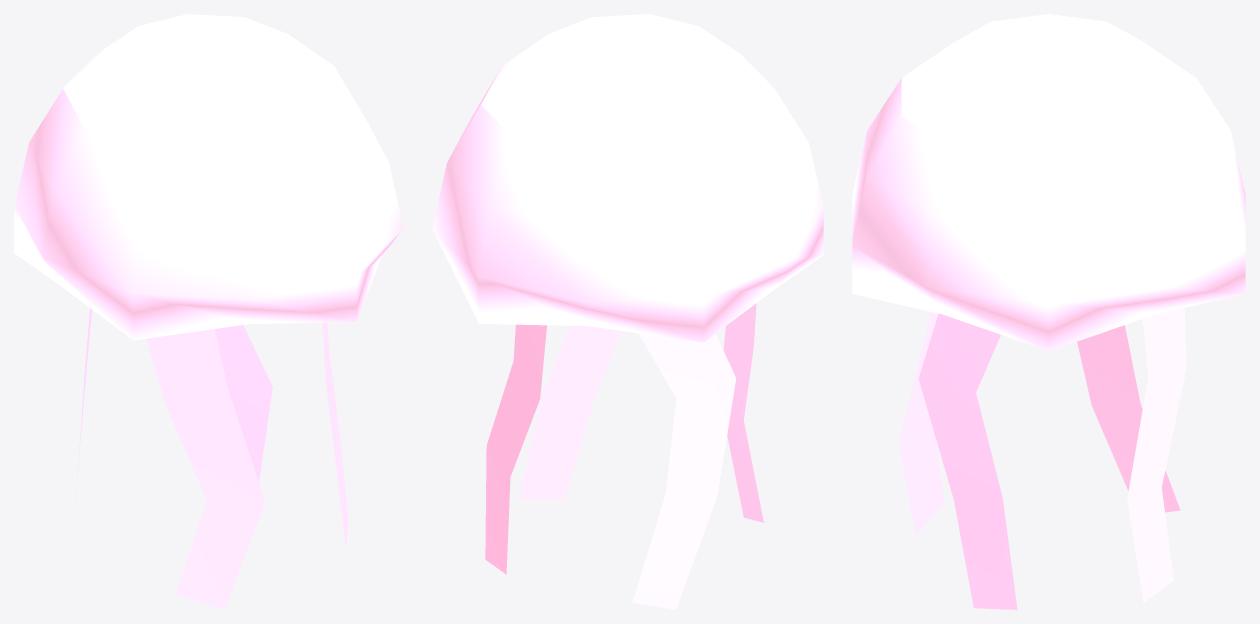
File: lantern-jelly.glb
3 renders of one model, left to right at view 1: azimuth 30°, elevation 25°; view 2: azimuth 150°, elevation 25°; view 3: azimuth 270°, elevation 25°, orthographic. The views are drawn at different scales.
Visible parts, largest first — view 1: lantern-jelly; view 2: lantern-jelly; view 3: lantern-jelly.
Part boxes in pixels (bbox=[...]): lantern-jelly: bbox=[14, 14, 403, 609]; lantern-jelly: bbox=[432, 14, 823, 609]; lantern-jelly: bbox=[852, 14, 1245, 609].
Bounding box in the file's own units: 1.6 × 2.4 × 1.6.
